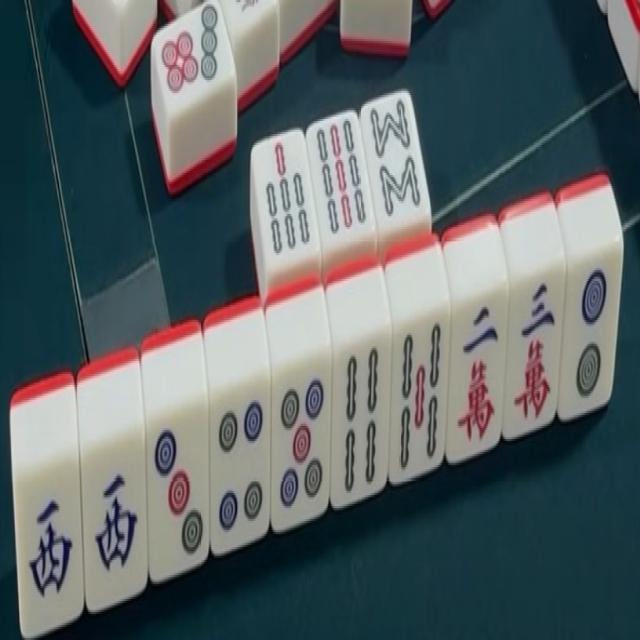m2: (454, 298, 510, 452)
m3: (510, 277, 567, 432)
s4: (334, 342, 388, 503)
s5: (391, 319, 450, 481)
s7: (252, 137, 319, 263)
s8: (361, 92, 429, 222)
s9: (309, 114, 377, 243)
t2: (564, 254, 617, 414)
t3: (151, 414, 211, 574)
t4: (211, 386, 270, 548)
t5: (275, 364, 333, 524)
t7: (154, 1, 232, 108)
west: (87, 436, 148, 600), (20, 469, 80, 624)
